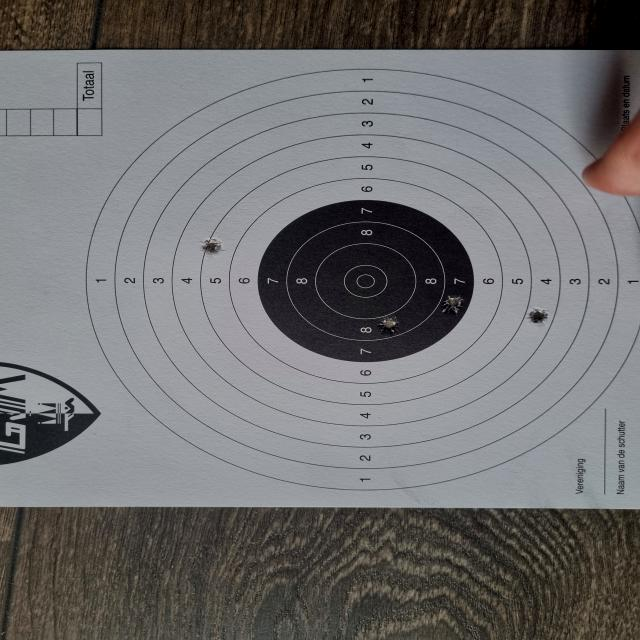4: (526, 307, 548, 323)
5: (202, 239, 226, 254)
7: (442, 296, 464, 314)
8: (378, 316, 399, 336)
Target: (82, 67, 640, 495)
black_contour: (256, 200, 474, 362)
